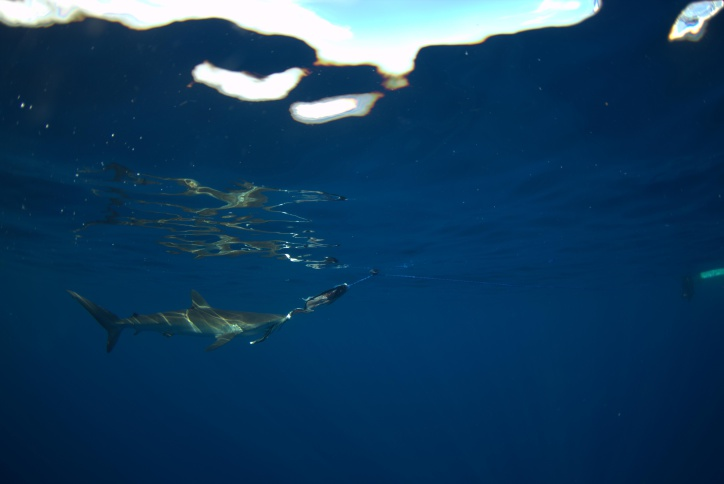Sedoso: (56, 269, 305, 368)
